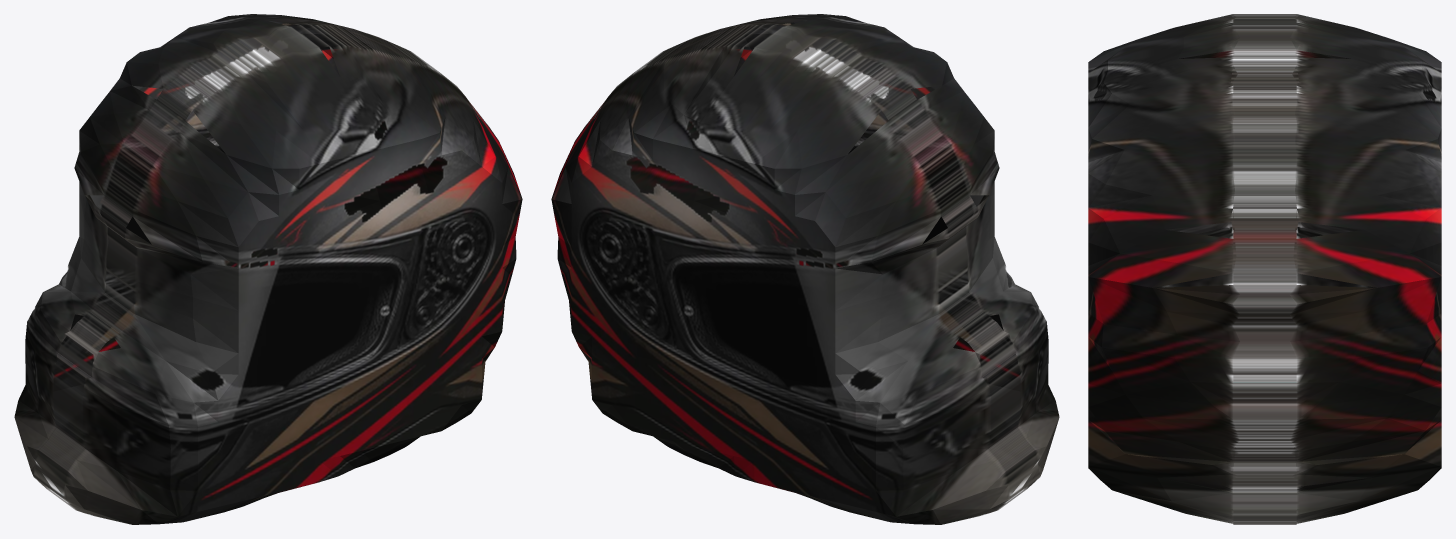
Rendered from alpinestars-vantage-full-face-helmet-052.glb.
3 views of the same model, side by side, from view 1: azimuth 30°, elevation 25°; view 2: azimuth 150°, elevation 25°; view 3: azimuth 270°, elevation 25° (orthographic). The views are drawn at different scales.
Visible parts, largest first — view 1: world; view 2: world; view 3: world.
Boxes of the visible parts, <box> form: world: <box>14,14,522,524</box>; world: <box>551,14,1059,524</box>; world: <box>1088,14,1441,524</box>.
Bounding box in the file's own units: 1 × 0.9248 × 0.64.
Materials: 1 (1 with a texture image).
